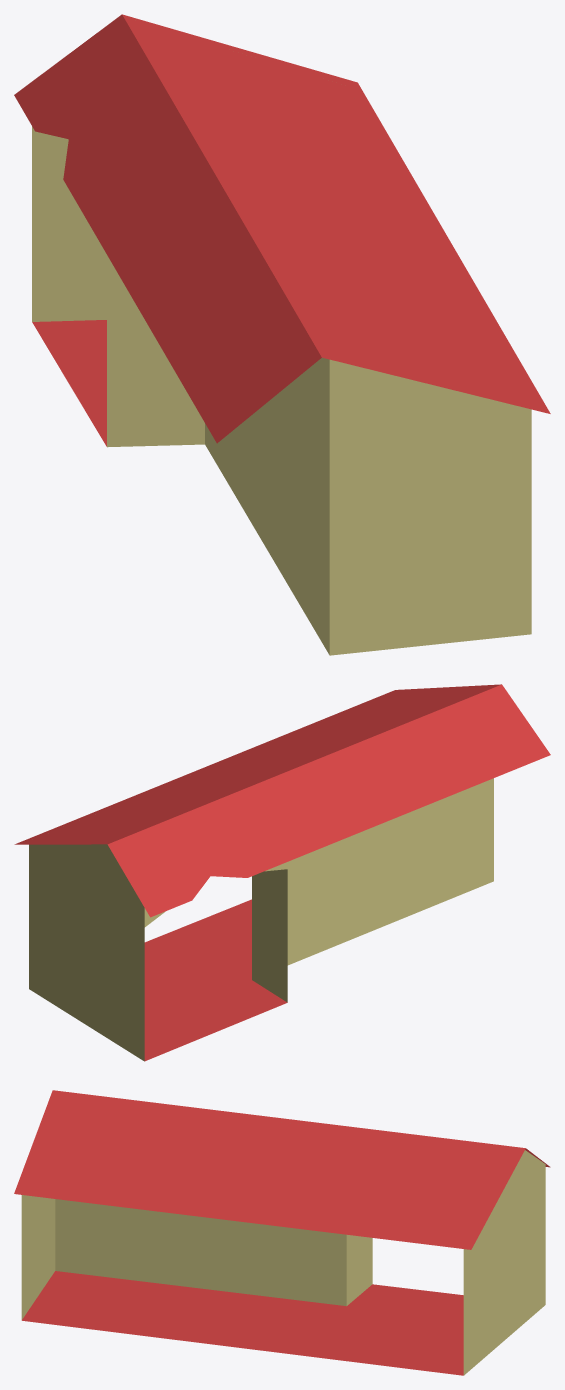
3 views of the same model, one above another, from view 1: azimuth 30°, elevation 25°; view 2: azimuth 150°, elevation 25°; view 3: azimuth 270°, elevation 25° (orthographic). The views are drawn at different scales.
Size of the model in its own units: 15.59 by 25.58 by 9.35.
